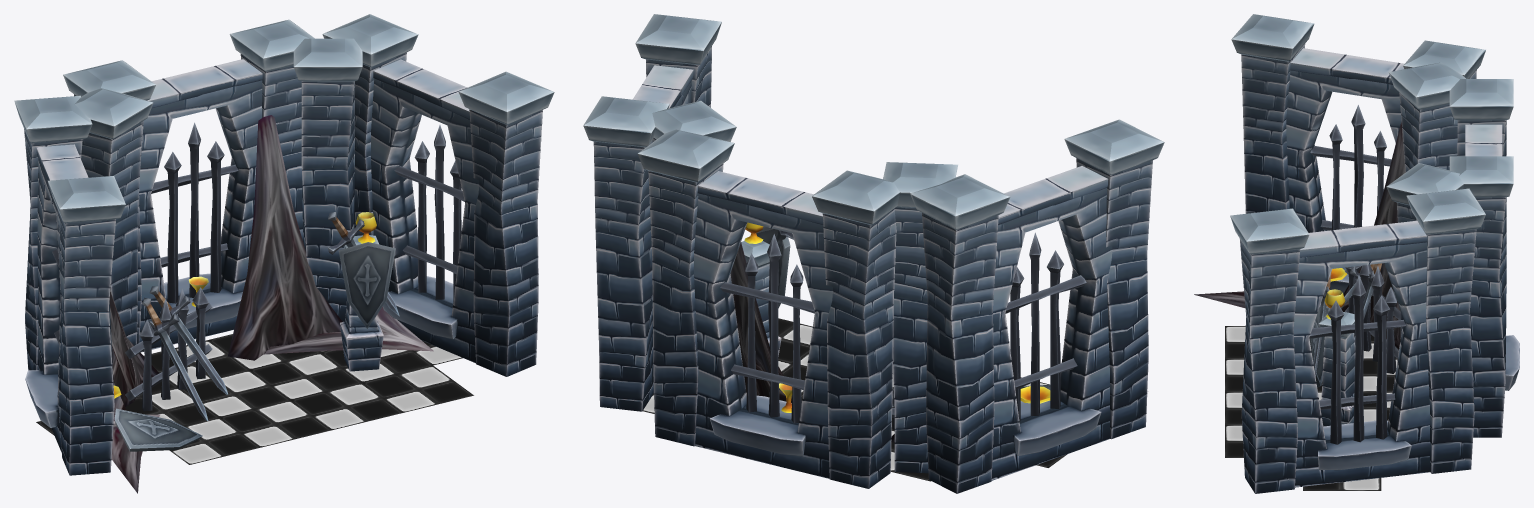
The model's file is Vampire_Village_Interior_03.FBX.
3 views of the same model, side by side, from view 1: azimuth 30°, elevation 25°; view 2: azimuth 150°, elevation 25°; view 3: azimuth 270°, elevation 25° (orthographic). The views are drawn at different scales.
Visible parts, largest first — view 1: Vampire_Village_Interior_03; view 2: Vampire_Village_Interior_03; view 3: Vampire_Village_Interior_03.
Boxes of the visible parts, left/top/right/bottom form: Vampire_Village_Interior_03: left=14, top=14, right=554, bottom=493; Vampire_Village_Interior_03: left=583, top=14, right=1164, bottom=493; Vampire_Village_Interior_03: left=1194, top=14, right=1519, bottom=493.
Bounding box in the file's own units: 742 × 409 × 450.
